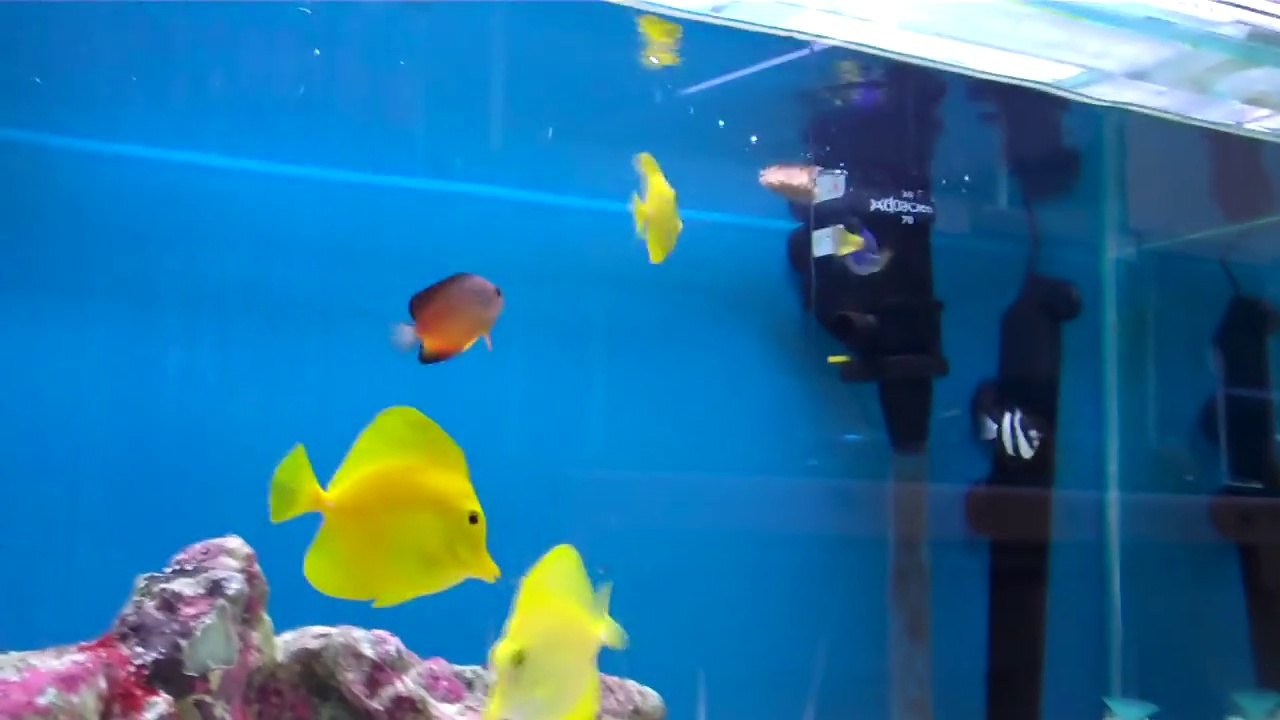saddle butterfly fish: (260, 405, 496, 622), (484, 547, 621, 720), (614, 140, 692, 275)
